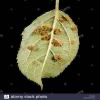Apple rust leaf: (16, 11, 84, 89)
